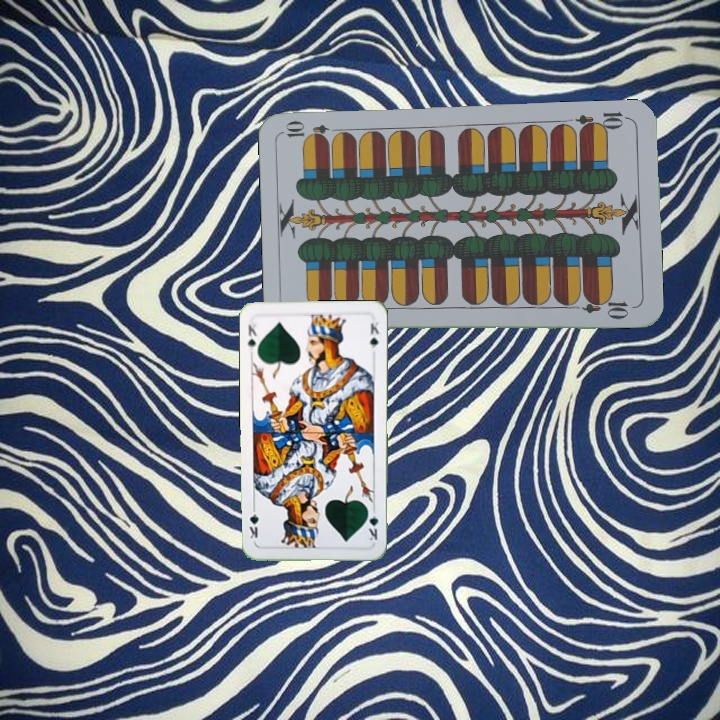E10: (573, 108, 632, 135)
GK: (364, 504, 380, 543), (244, 320, 259, 353)
